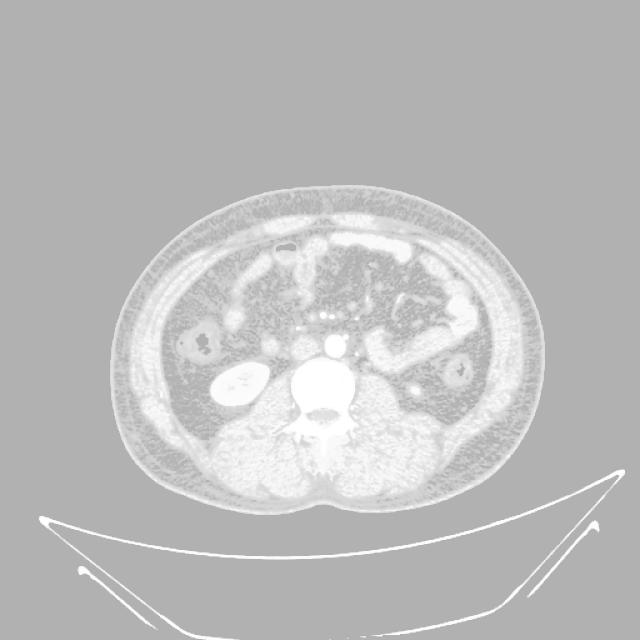NORMAL: (106, 182, 546, 528)
